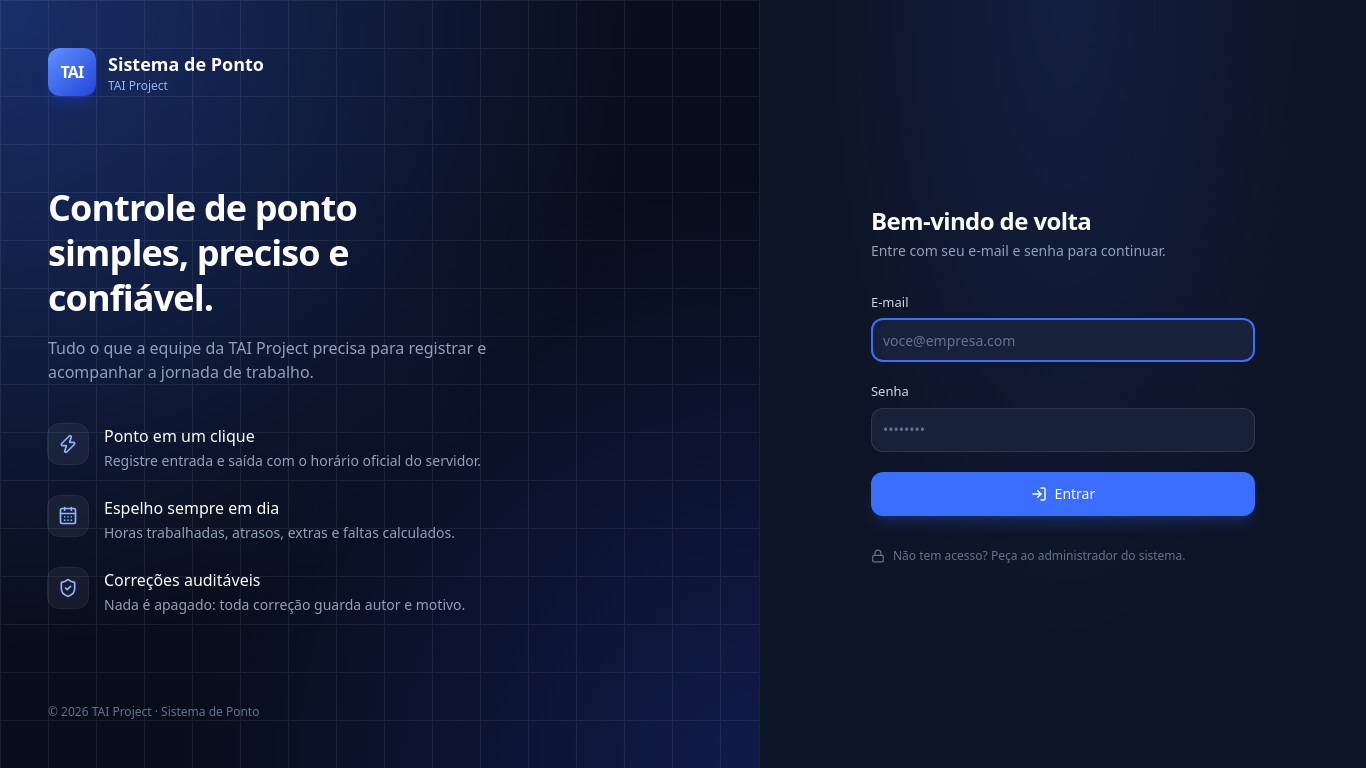
Scenario: login › vai direto para o Bater ponto, sem precisar recarregar a página
Type "teste@leo.com" into the field labelled "E-mail" at (1063, 340), box x1=871 y1=318 x2=1255 y2=362
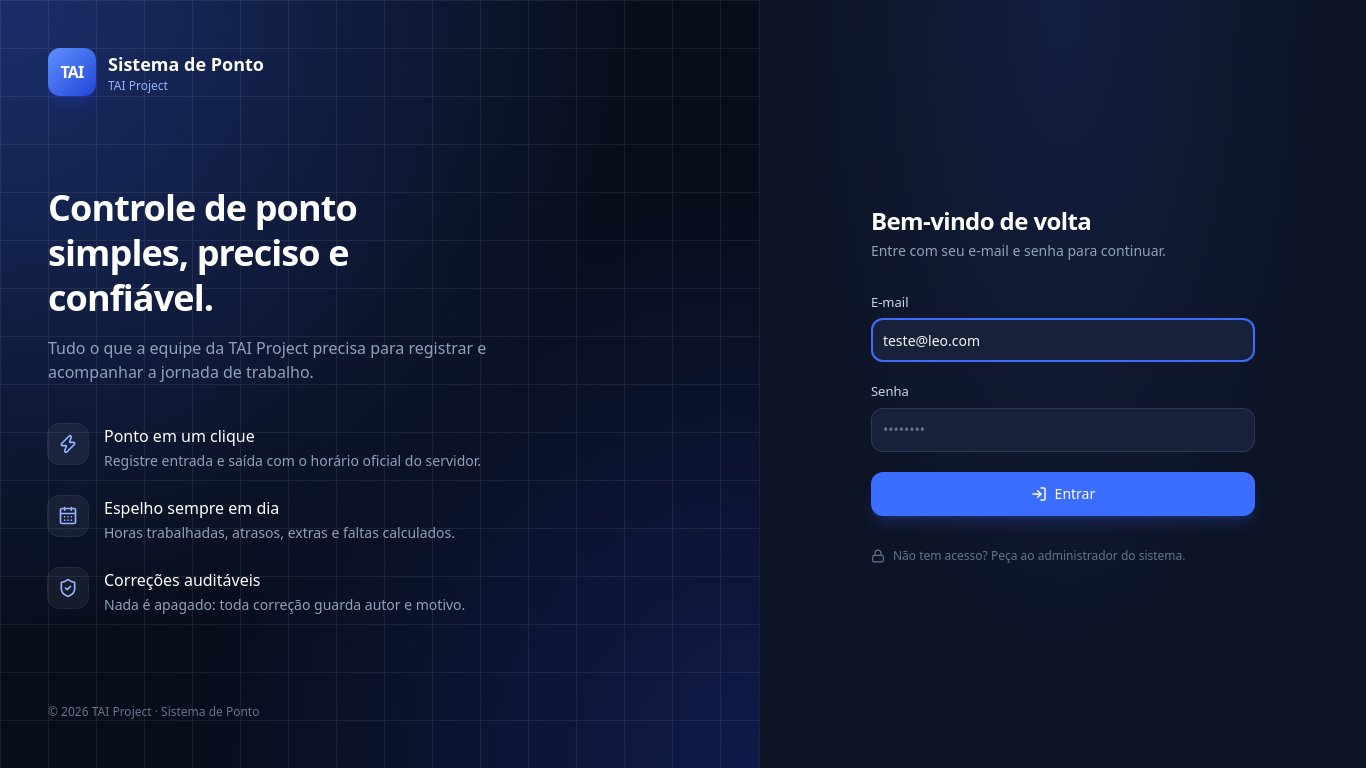
Type "teste1234" into the password field labelled "Senha" at (1063, 430), box x1=871 y1=408 x2=1255 y2=452
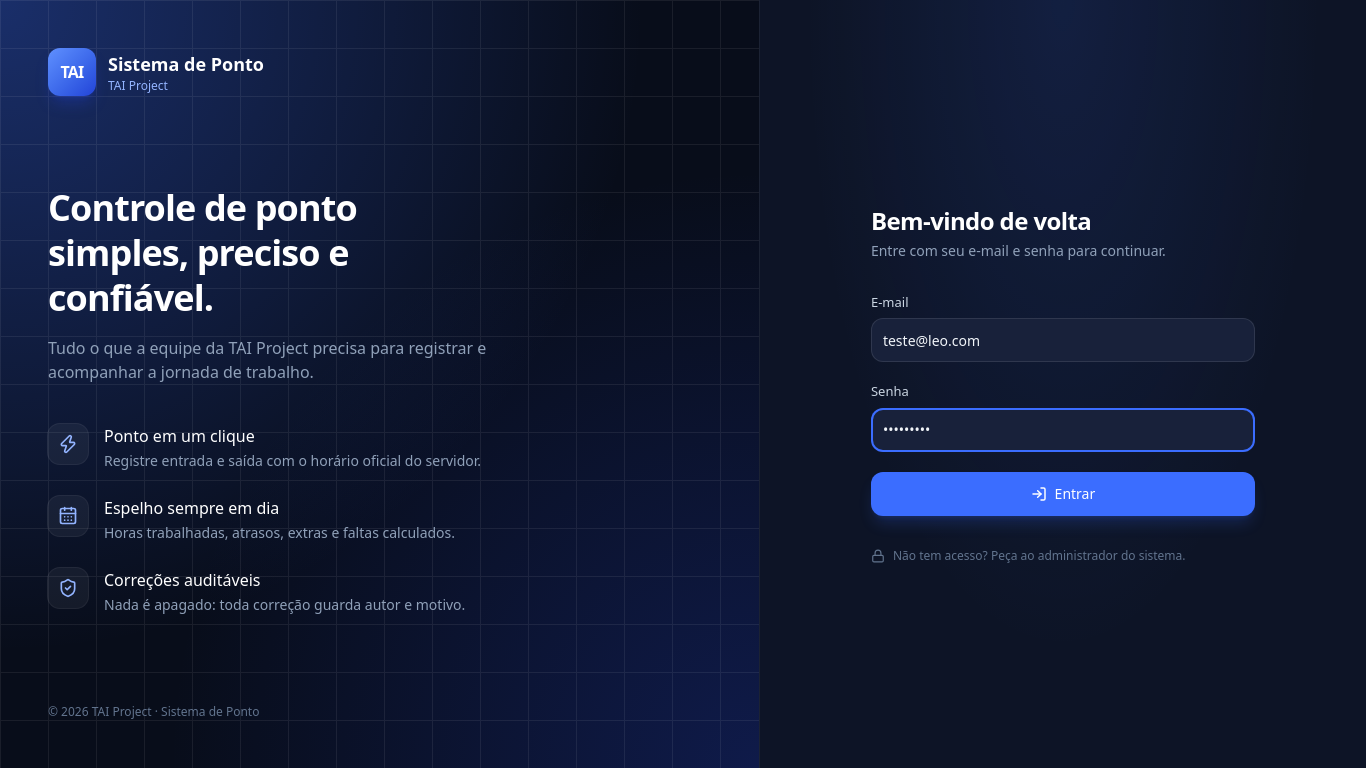
Click the button "Entrar" at (1063, 494), box x1=871 y1=472 x2=1255 y2=516
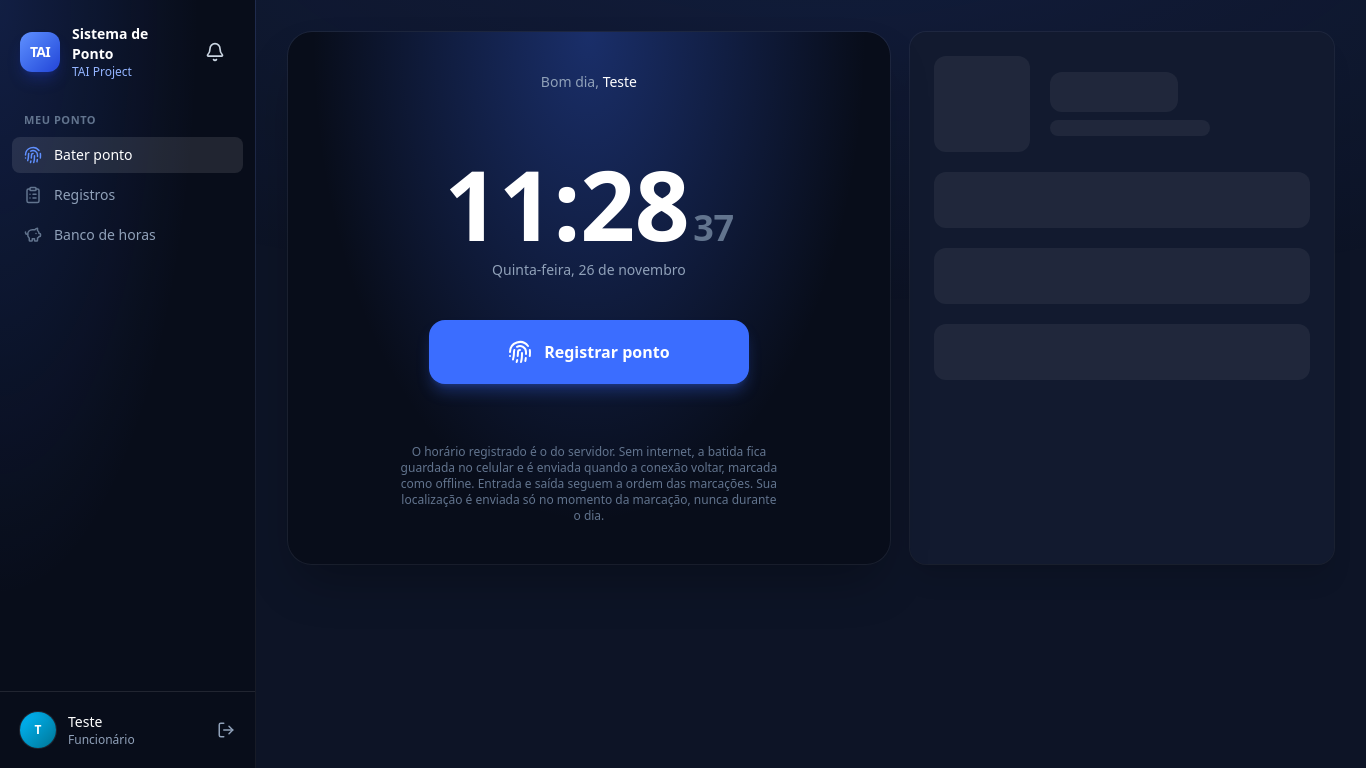
Expected: the button "Entrar" is gone
